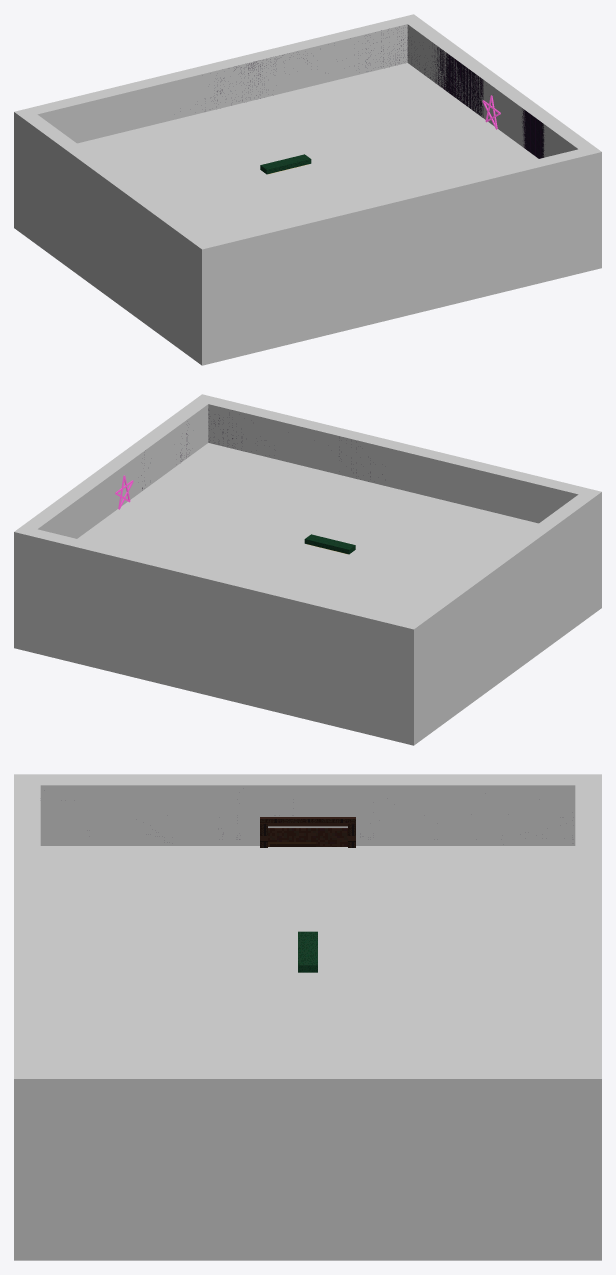
Rendered from game_room.glb.
3 views of the same model, one above another, from view 1: azimuth 30°, elevation 25°; view 2: azimuth 150°, elevation 25°; view 3: azimuth 270°, elevation 25° (orthographic). The views are drawn at different scales.
Visible parts, largest first — view 1: COL_Wall_S, TRG_CAM_2, COL_Wall_W, TRG_CAM_1, COL_Wall_N, COL_Wall_E, Room_Shell, Pool_Lamp; view 2: COL_Wall_N, TRG_CAM_2, COL_Wall_W, TRG_CAM_1, COL_Wall_S, COL_Wall_E, Pool_Lamp; view 3: COL_Wall_E, TRG_CAM_1, TRG_CAM_2, COL_Wall_W, COL_Wall_N, COL_Wall_S, DOOR_hall, DOORFRAME_hall_2, Pool_Lamp.
Boxes of the visible parts, x1=… form: COL_Wall_S: x1=193, y1=145, x2=601, y2=365; TRG_CAM_2: x1=223, y1=63, x2=538, y2=200; COL_Wall_W: x1=22, y1=114, x2=207, y2=359; TRG_CAM_1: x1=77, y1=104, x2=368, y2=239; COL_Wall_N: x1=14, y1=14, x2=421, y2=233; COL_Wall_E: x1=407, y1=20, x2=592, y2=157; Room_Shell: x1=217, y1=25, x2=544, y2=158; Pool_Lamp: x1=260, y1=154, x2=311, y2=174; COL_Wall_N: x1=14, y1=525, x2=422, y2=745; TRG_CAM_2: x1=77, y1=443, x2=392, y2=580; COL_Wall_W: x1=408, y1=494, x2=593, y2=739; TRG_CAM_1: x1=247, y1=484, x2=538, y2=619; COL_Wall_S: x1=194, y1=394, x2=601, y2=613; COL_Wall_E: x1=23, y1=400, x2=208, y2=538; Pool_Lamp: x1=304, y1=534, x2=355, y2=554; COL_Wall_E: x1=40, y1=1068, x2=575, y2=1260; TRG_CAM_1: x1=40, y1=846, x2=575, y2=998; TRG_CAM_2: x1=40, y1=998, x2=575, y2=1067; COL_Wall_W: x1=40, y1=774, x2=575, y2=845; COL_Wall_N: x1=575, y1=774, x2=601, y2=1260; COL_Wall_S: x1=14, y1=774, x2=40, y2=1260; DOOR_hall: x1=268, y1=828, x2=347, y2=846; DOORFRAME_hall_2: x1=260, y1=817, x2=355, y2=826; Pool_Lamp: x1=298, y1=931, x2=317, y2=972.
Size of the model in its own units: 10.8 by 3 by 8.8.
Materials: 21 (21 with a texture image).
